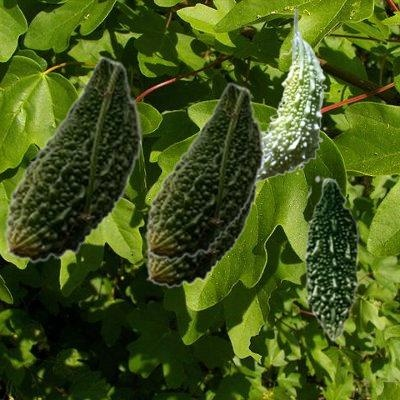ampalaya: (4, 56, 142, 262), (145, 82, 264, 260), (258, 9, 326, 182), (146, 182, 257, 287), (304, 175, 362, 341)
